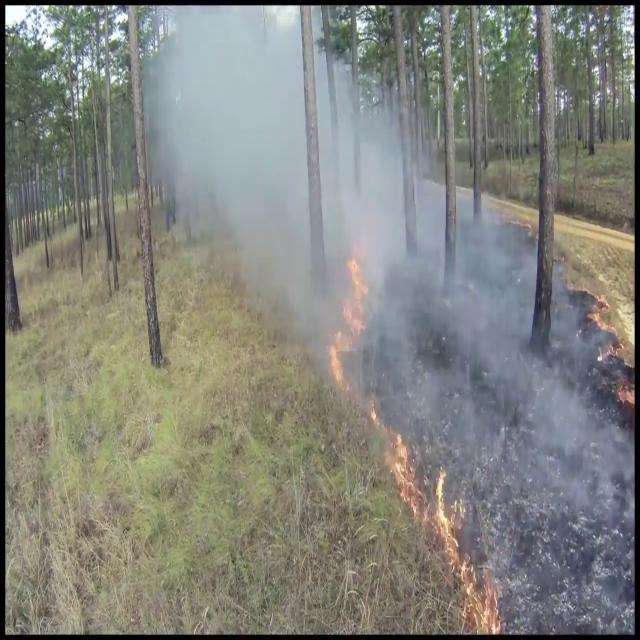Fire: (432, 462, 499, 632), (330, 238, 372, 394), (379, 414, 419, 518)
Smoke: (372, 96, 624, 522), (146, 5, 416, 387)
